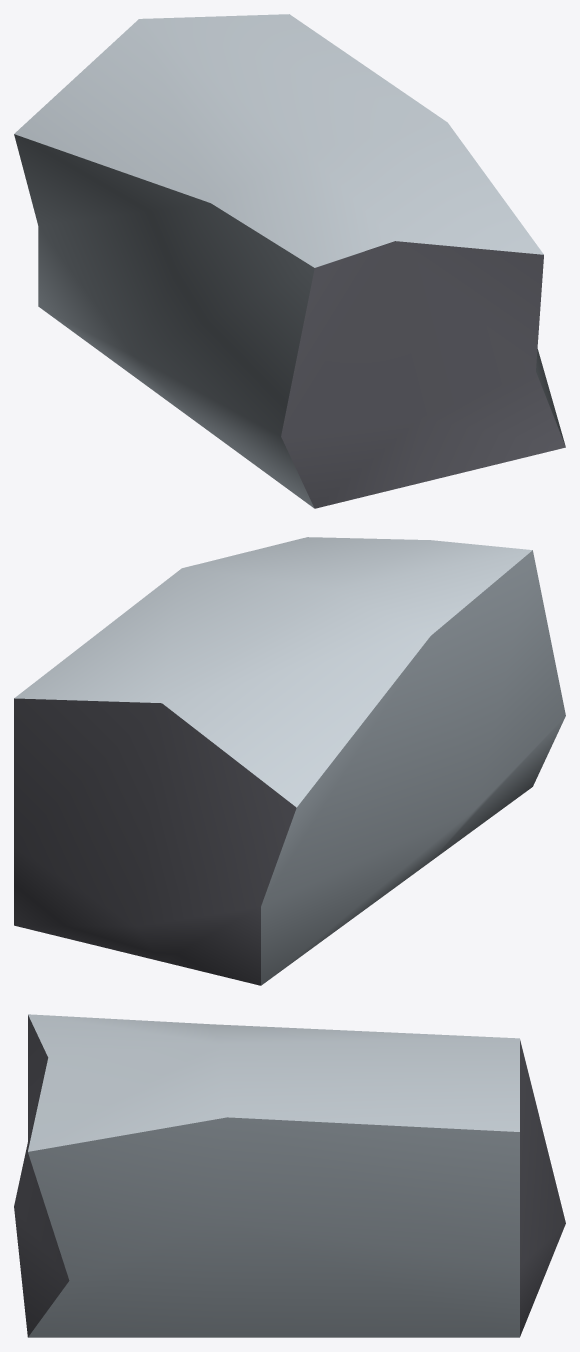
The model's file is ruina1contextura.fbx.
3 renders of one model, top to bottom at view 1: azimuth 30°, elevation 25°; view 2: azimuth 150°, elevation 25°; view 3: azimuth 270°, elevation 25°, orthographic. The views are drawn at different scales.
Visible parts, largest first — view 1: pCube1; view 2: pCube1; view 3: pCube1.
Part boxes in pixels (x1,y1,x2,y2): pCube1: (14, 14, 565, 508); pCube1: (14, 537, 565, 985); pCube1: (14, 1014, 565, 1337).
Bounding box in the file's own units: 8.56 × 6.14 × 13.12.
Materials: 1 (1 with a texture image).
